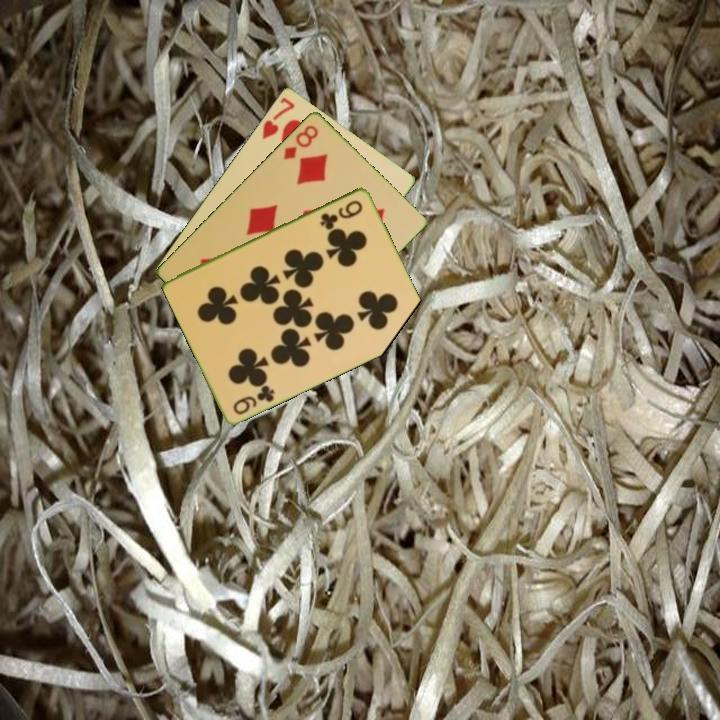7h: (258, 93, 298, 142)
8d: (280, 121, 321, 162)
9c: (230, 381, 278, 417), (317, 196, 366, 231)
